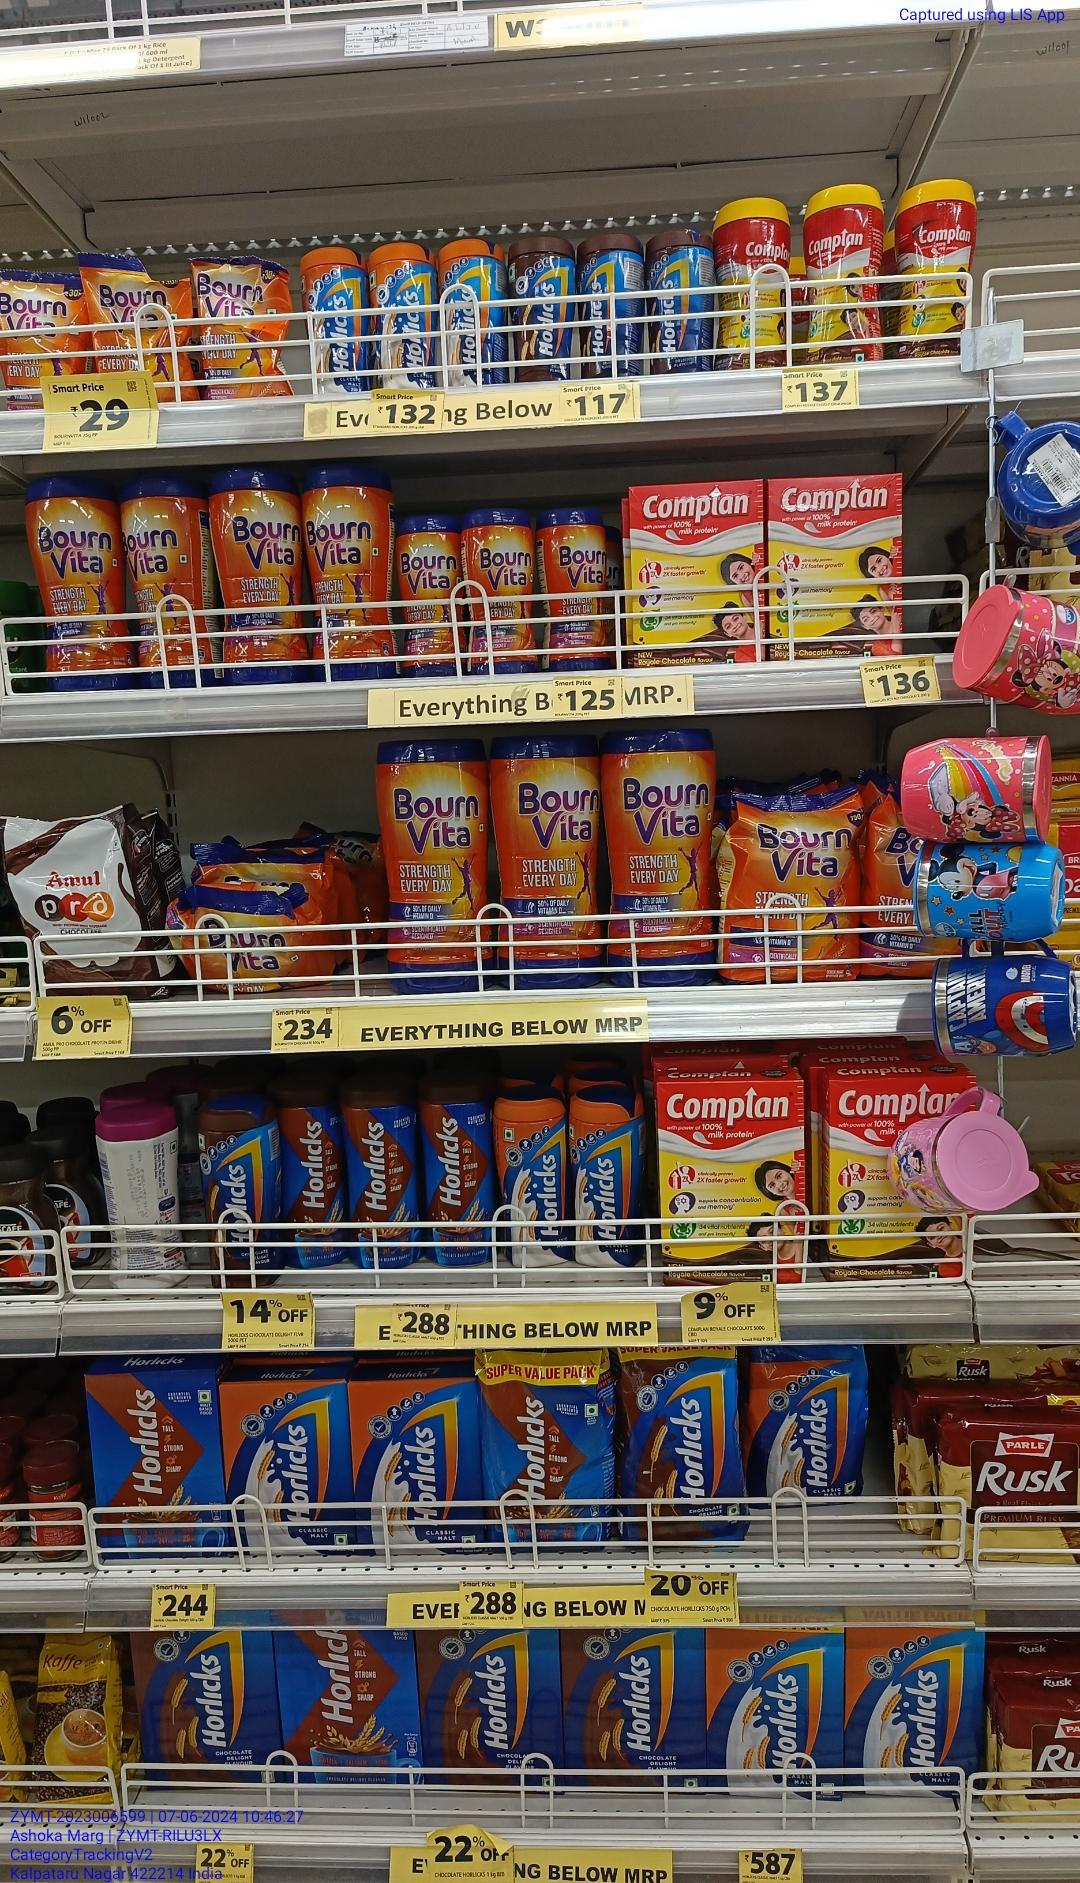HORLICK_CLASSIC_MALT_500_G_JAR: (577, 1090, 647, 1256), (499, 1098, 568, 1266), (375, 256, 432, 394), (308, 253, 363, 391), (446, 246, 497, 384)
HORLICK_CLASSIC_MALT_500_G_PACK: (848, 1622, 987, 1794), (704, 1630, 834, 1802)
